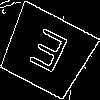E: (21, 26, 71, 83)
